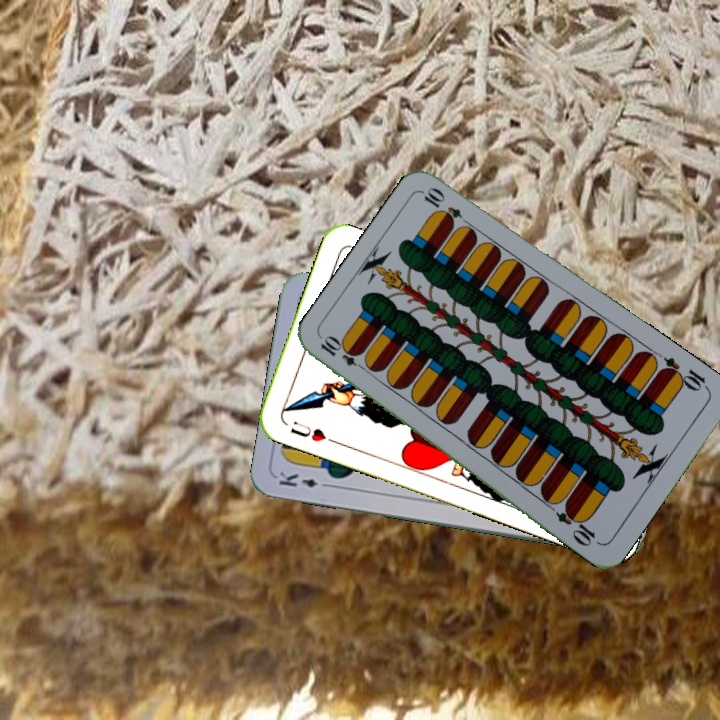E10: (655, 353, 712, 395), (316, 333, 371, 374)
EK: (275, 467, 333, 490)
HU: (286, 417, 339, 446)
